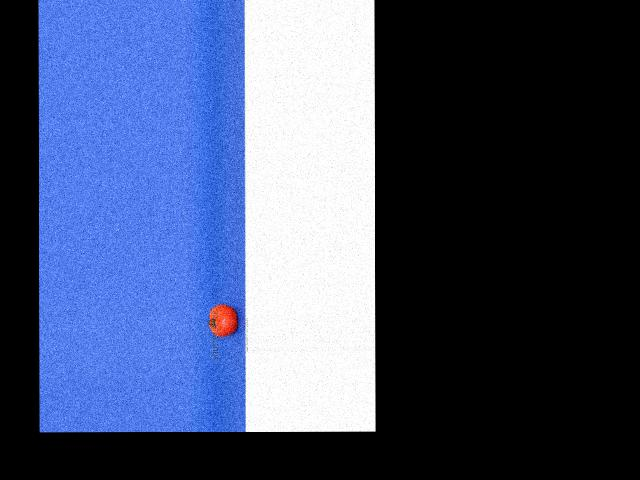tomato: (208, 303, 237, 336)
